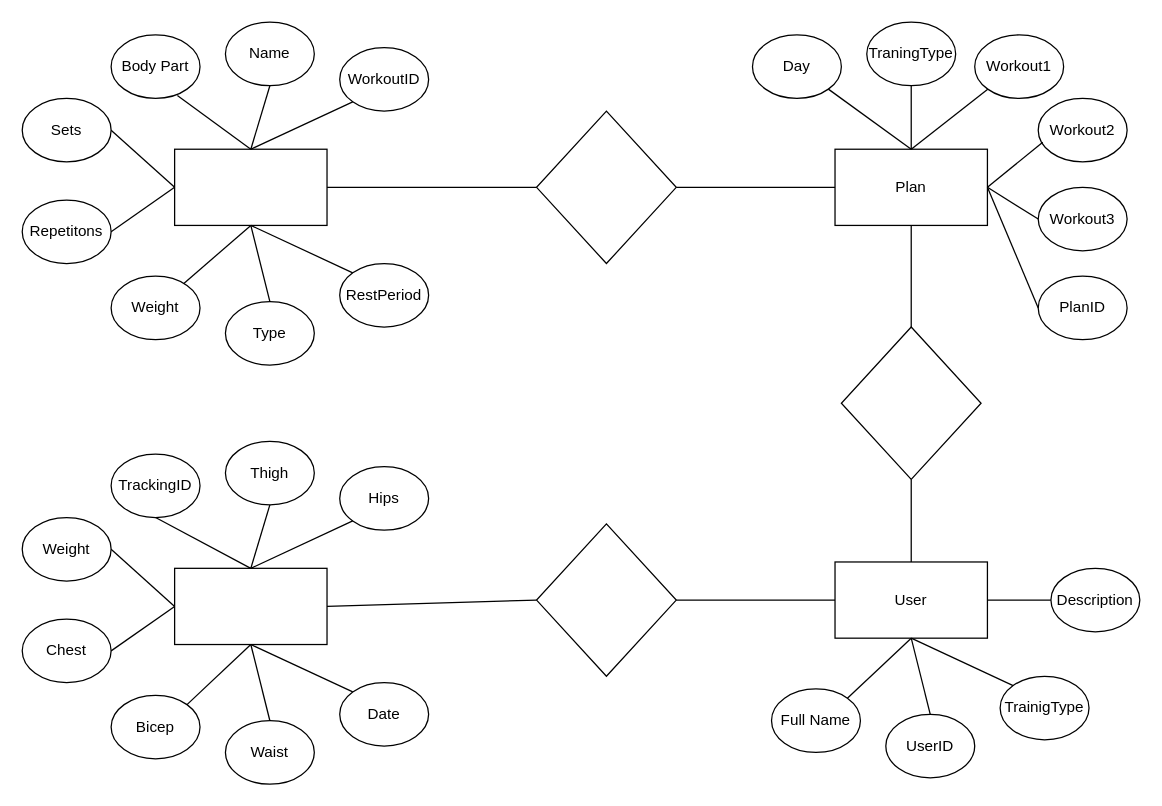
Image size: 1162x806. Some labels were removed from this diagram. The box of each missing label's shape, as (x1, y1, x2, y2) in pixels:
Tracking: (173, 567, 327, 645)
User's tracking details: (535, 523, 676, 676)
User's workout plan: (840, 326, 981, 479)
Workout: (173, 148, 327, 225)
Workouts in a plan: (535, 110, 676, 264)
